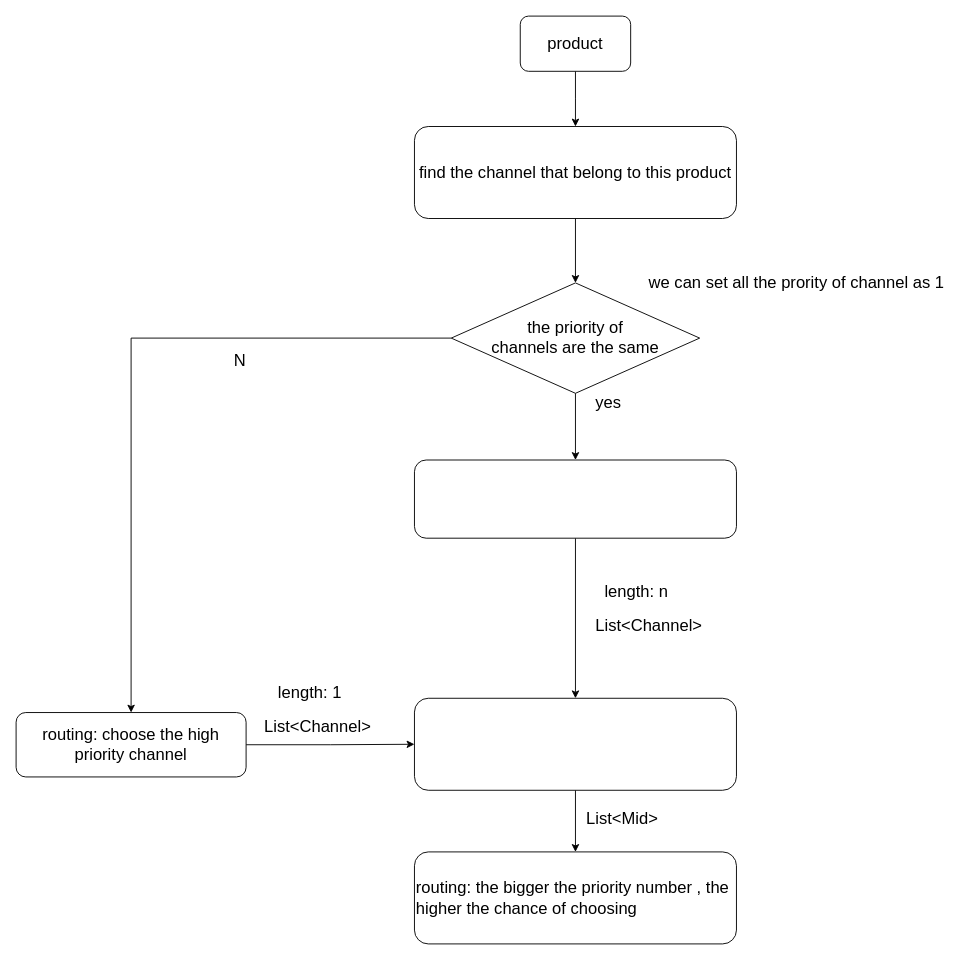
The diagram is 976 pixels wide and 960 high, and some of its shapes have lost their labels. The centre of each missing label's shape, as x and y in pixels:
"add all of the channel into List" belongs at point 575,498.
"for(Object obj: list){ resultList .addAll ( findMidFromDb(obj) ) }" belongs at point 575,743.
